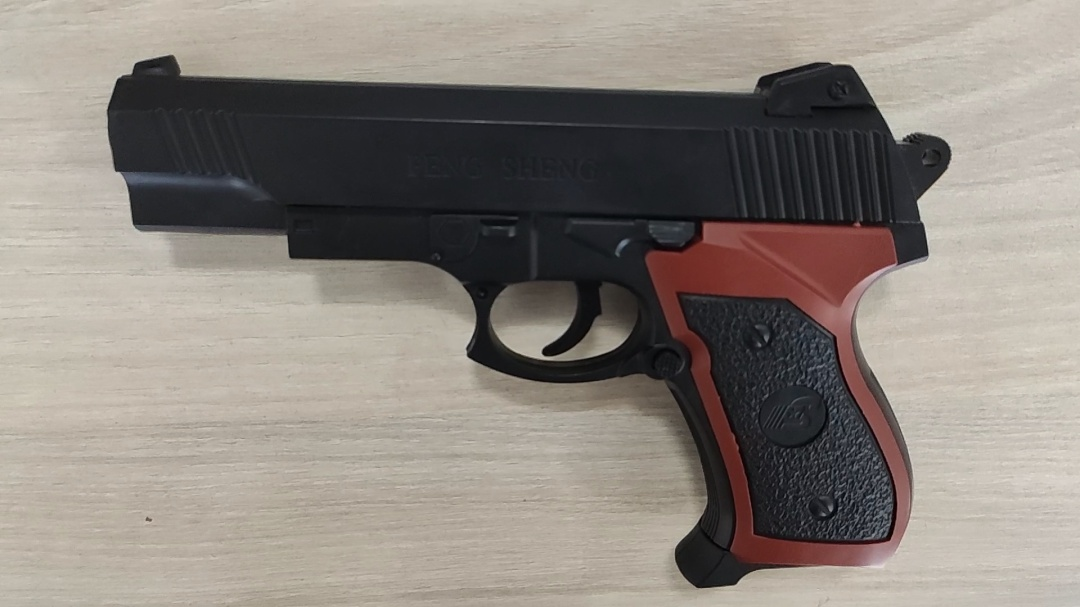gun: (106, 49, 951, 590)
